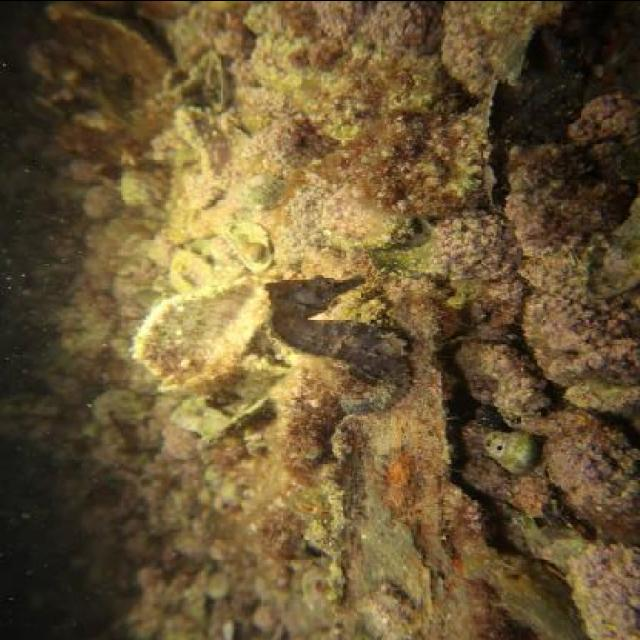Hippo: (260, 266, 374, 316)
